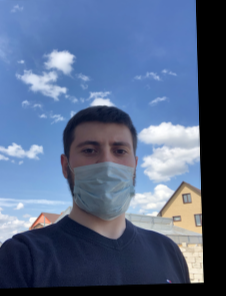with_mask: (69, 134, 136, 222)
